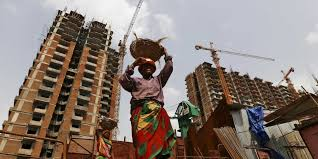arm: (150, 48, 178, 87), (115, 57, 138, 92)
glove: (158, 53, 176, 75)
human: (115, 27, 177, 159)
nohelmet: (128, 36, 166, 76)
novest: (125, 63, 168, 107)
